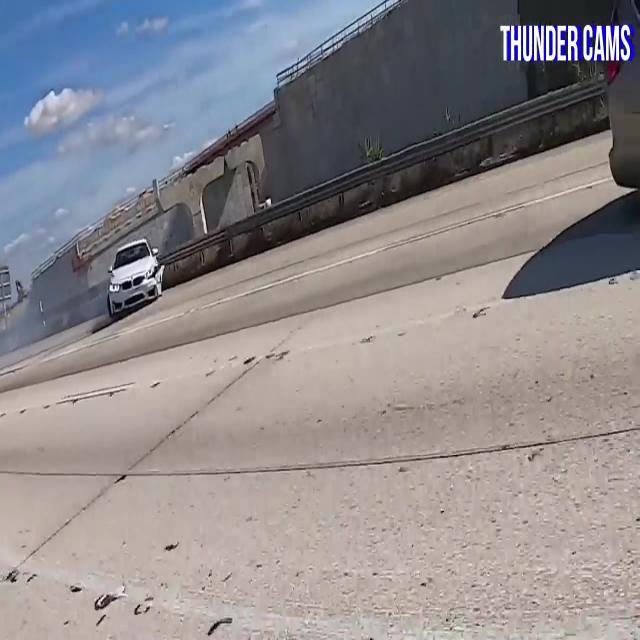accident: (85, 227, 190, 329)
